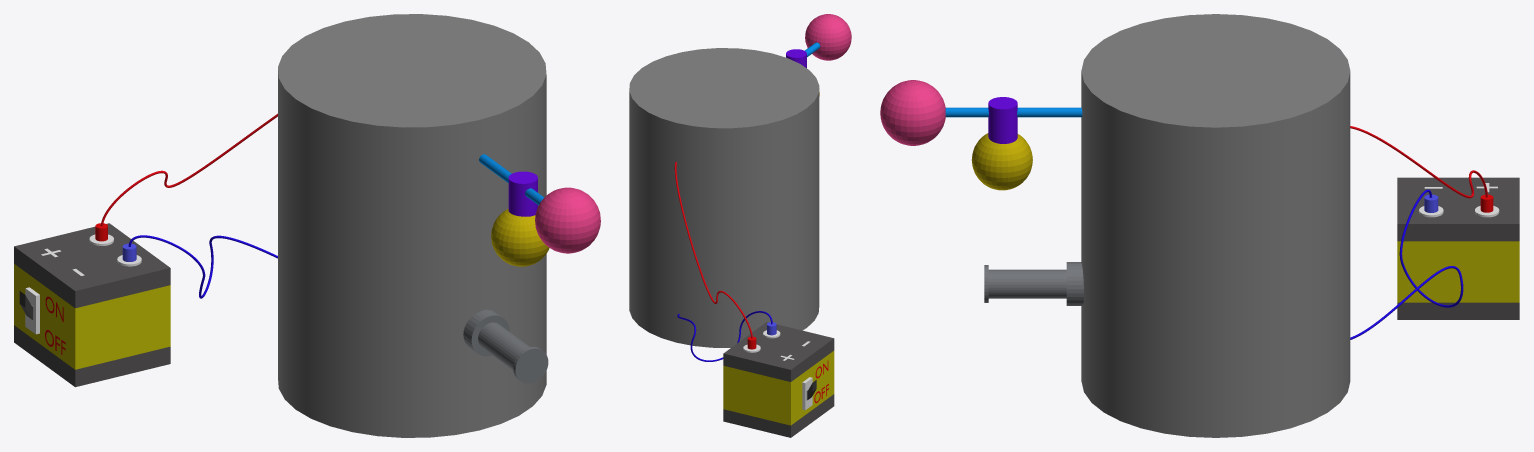
Rendered from LAB.fbx.
The picture shows the model from 3 angles, left to right: view 1: azimuth 30°, elevation 25°; view 2: azimuth 150°, elevation 25°; view 3: azimuth 270°, elevation 25°; orthographic projection. The views are drawn at different scales.
Visible parts, largest first — view 1: Cylinder, Cube, Cube.001, Sphere, Cylinder.007, Sphere.001, Cylinder.004, BézierCurve, BézierCurve.001, Cylinder.003; view 2: Cylinder, Cube, Cube.001, Sphere, BézierCurve.001, BézierCurve, Cylinder.004, Cube.002; view 3: Cylinder, Cube, Cube.001, Sphere, Cylinder.007, Sphere.001, Cylinder.004, Cylinder.003, BézierCurve, BézierCurve.001.
Boxes of the visible parts, box(x1,y1,x2,y2) form: Cylinder: box(278, 14, 546, 437); Cube: box(14, 223, 170, 387); Cube.001: box(14, 264, 170, 369); Sphere: box(535, 187, 600, 253); Cylinder.007: box(463, 309, 548, 383); Sphere.001: box(491, 208, 549, 266); Cylinder.004: box(508, 171, 537, 216); BézierCurve: box(128, 235, 277, 298); BézierCurve.001: box(100, 113, 277, 226); Cylinder.003: box(479, 154, 544, 205); Cylinder: box(629, 48, 819, 347); Cube: box(723, 322, 834, 437); Cube.001: box(723, 351, 834, 425); Sphere: box(805, 14, 851, 60); BézierCurve.001: box(674, 161, 752, 338); BézierCurve: box(677, 311, 772, 361); Cylinder.004: box(786, 49, 806, 68); Cube.002: box(802, 377, 812, 410); Cylinder: box(1081, 14, 1350, 437); Cube: box(1397, 177, 1519, 319); Cube.001: box(1397, 241, 1519, 302); Sphere: box(880, 80, 945, 145); Cylinder.007: box(984, 262, 1083, 305); Sphere.001: box(971, 133, 1032, 190); Cylinder.004: box(988, 97, 1017, 143); Cylinder.003: box(945, 107, 1082, 117); BézierCurve: box(1350, 189, 1463, 339); BézierCurve.001: box(1350, 126, 1487, 198).
Bounding box in the file's own units: 354 × 291 × 523.
